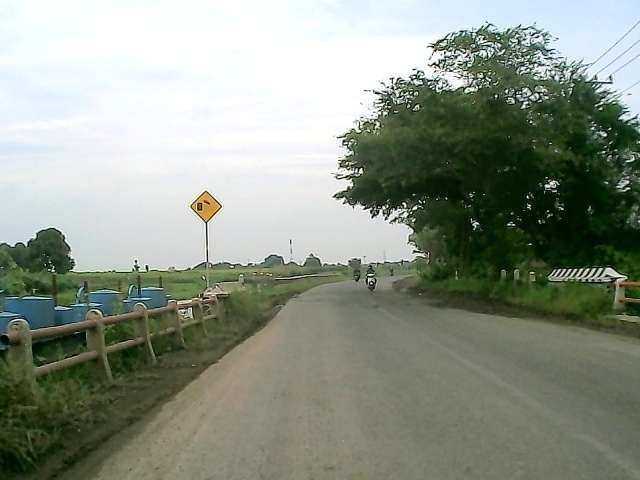Peringatan tepi air: (188, 189, 223, 224)
